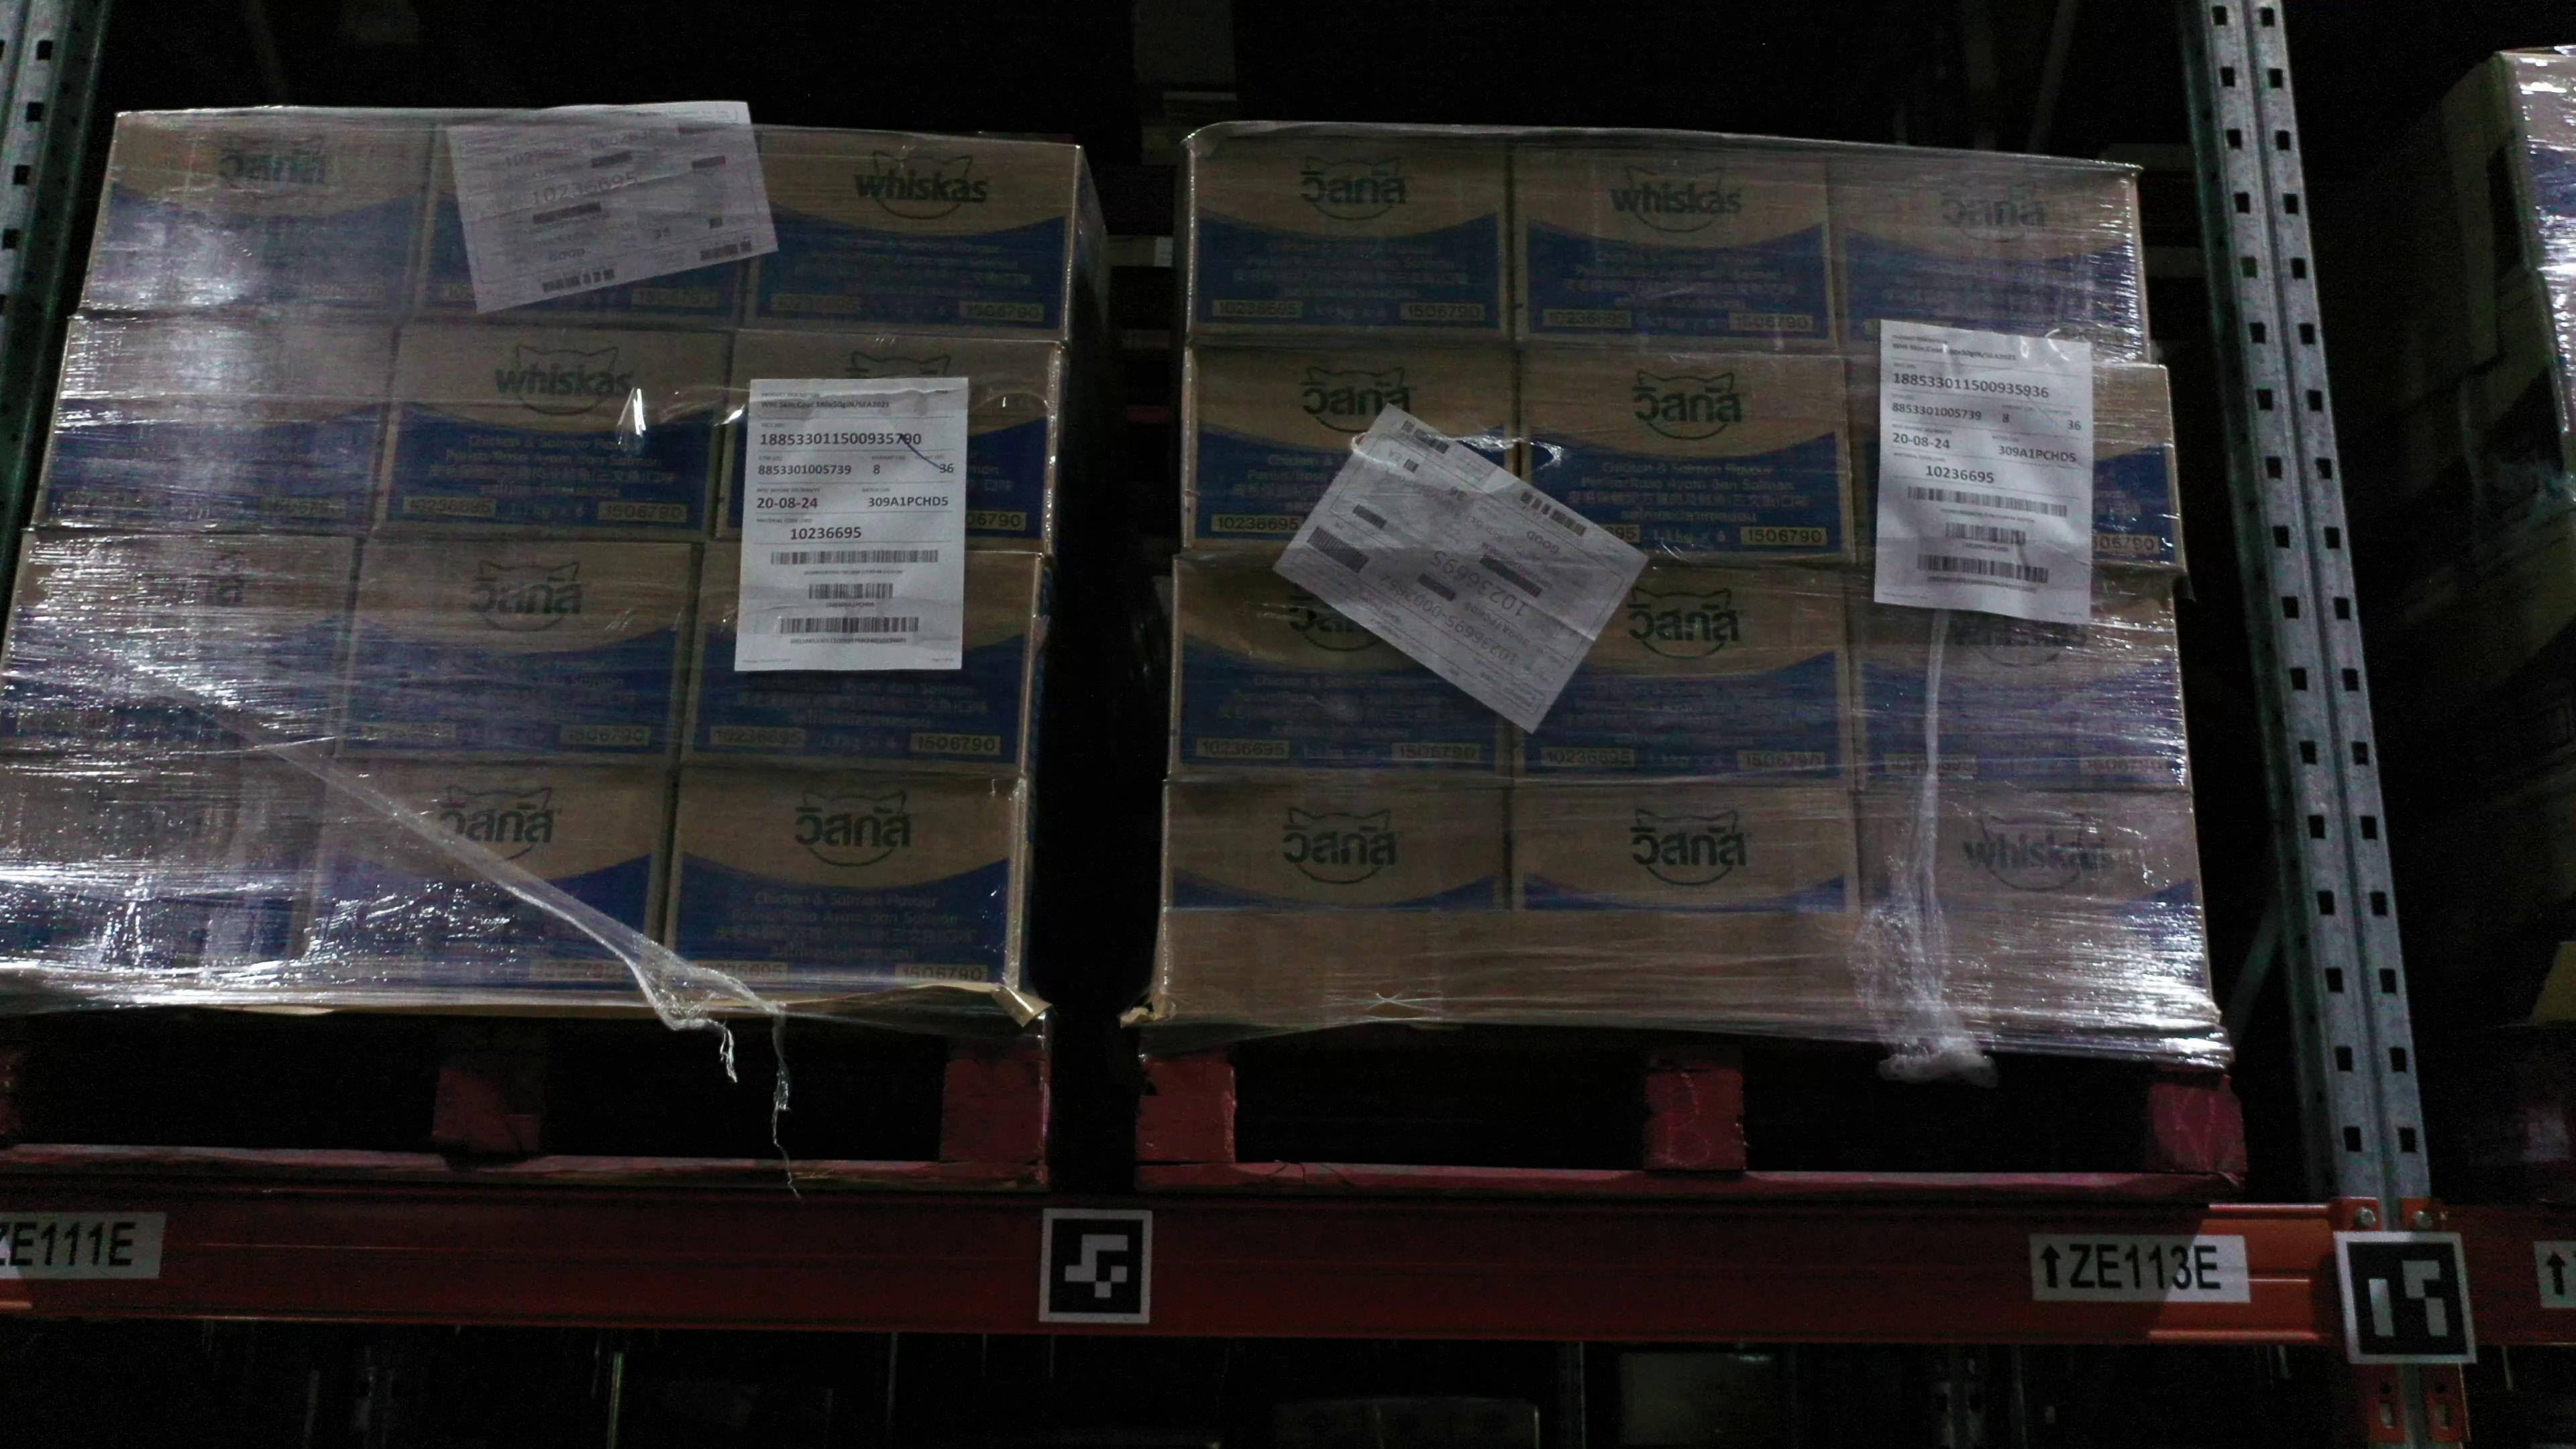-: (299, 755, 679, 1001), (658, 763, 1024, 1001), (679, 541, 1037, 780), (366, 315, 734, 545), (0, 531, 363, 757), (28, 317, 396, 540), (0, 752, 333, 998), (709, 324, 1065, 554), (333, 540, 702, 761), (1169, 554, 1516, 789), (1514, 557, 1858, 791), (1845, 568, 2192, 796), (407, 108, 757, 331), (1509, 126, 1840, 356), (1516, 347, 1856, 568), (1858, 789, 2213, 1000), (78, 108, 430, 320), (736, 127, 1085, 341), (1829, 138, 2158, 364), (1847, 357, 2185, 575), (1184, 341, 1518, 561), (1185, 127, 1509, 347), (1164, 780, 1511, 913), (1516, 789, 1863, 916)
